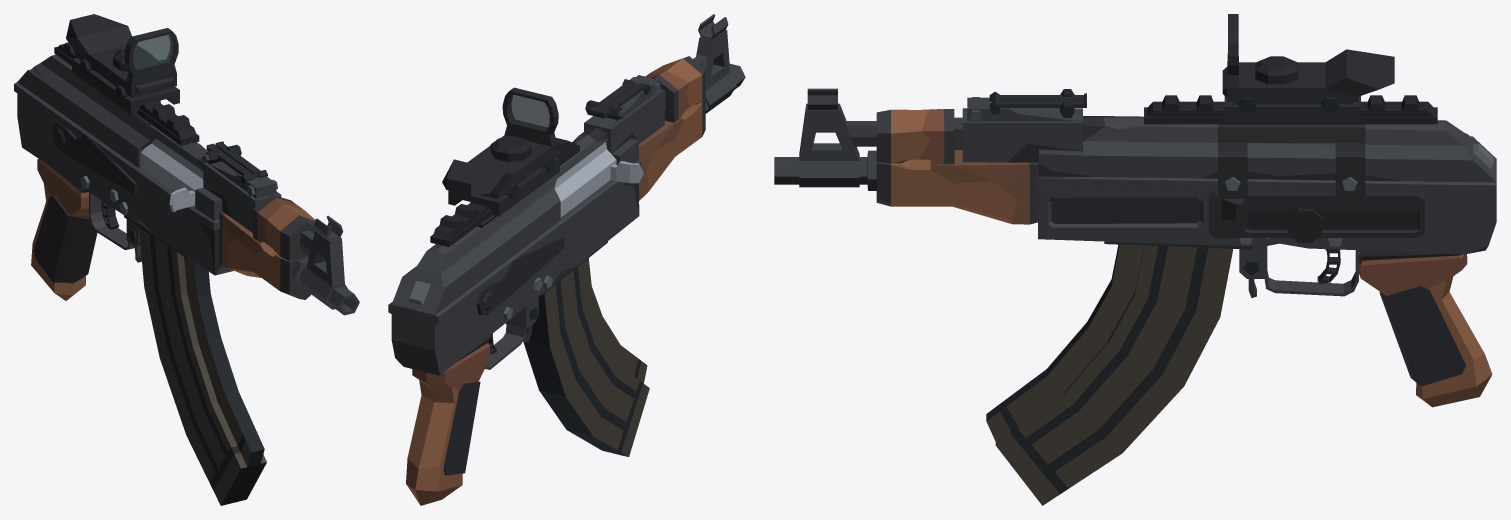
The picture shows the model from 3 angles, left to right: view 1: azimuth 30°, elevation 25°; view 2: azimuth 150°, elevation 25°; view 3: azimuth 270°, elevation 25°; orthographic projection. The views are drawn at different scales.
Visible parts, largest first — view 1: SM_Wep_Preset_B_SMG_01, SM_Wep_Preset_B_SMG_01_Mag, SM_Wep_Preset_B_SMG_01_Sight, SM_Wep_Preset_B_SMG_01_Slide, SM_Wep_Preset_B_SMG_01_Sight_Glass; view 2: SM_Wep_Preset_B_SMG_01, SM_Wep_Preset_B_SMG_01_Mag, SM_Wep_Preset_B_SMG_01_Sight, SM_Wep_Preset_B_SMG_01_Slide, SM_Wep_Preset_B_SMG_01_Sight_Glass; view 3: SM_Wep_Preset_B_SMG_01, SM_Wep_Preset_B_SMG_01_Mag, SM_Wep_Preset_B_SMG_01_Sight.
Boxes of the visible parts, <box> form: SM_Wep_Preset_B_SMG_01: <box>14,42,359,315</box>; SM_Wep_Preset_B_SMG_01_Mag: <box>139,227,266,505</box>; SM_Wep_Preset_B_SMG_01_Sight: <box>66,14,179,114</box>; SM_Wep_Preset_B_SMG_01_Slide: <box>141,139,203,212</box>; SM_Wep_Preset_B_SMG_01_Sight_Glass: <box>133,34,173,69</box>; SM_Wep_Preset_B_SMG_01: <box>388,14,745,505</box>; SM_Wep_Preset_B_SMG_01_Mag: <box>523,258,649,456</box>; SM_Wep_Preset_B_SMG_01_Sight: <box>442,87,559,216</box>; SM_Wep_Preset_B_SMG_01_Slide: <box>554,142,643,217</box>; SM_Wep_Preset_B_SMG_01_Sight_Glass: <box>509,94,549,129</box>; SM_Wep_Preset_B_SMG_01: <box>774,88,1496,407</box>; SM_Wep_Preset_B_SMG_01_Mag: <box>986,244,1232,505</box>; SM_Wep_Preset_B_SMG_01_Sight: <box>1222,14,1394,122</box>.
Bounding box in the file's own units: 0.0899 × 0.3982 × 0.5497.
2 materials, 1 textured.
